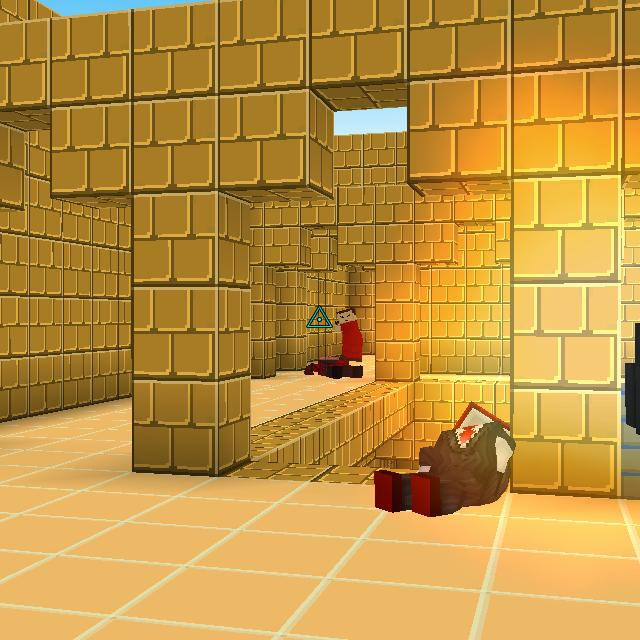enemy: (335, 306, 362, 365)
